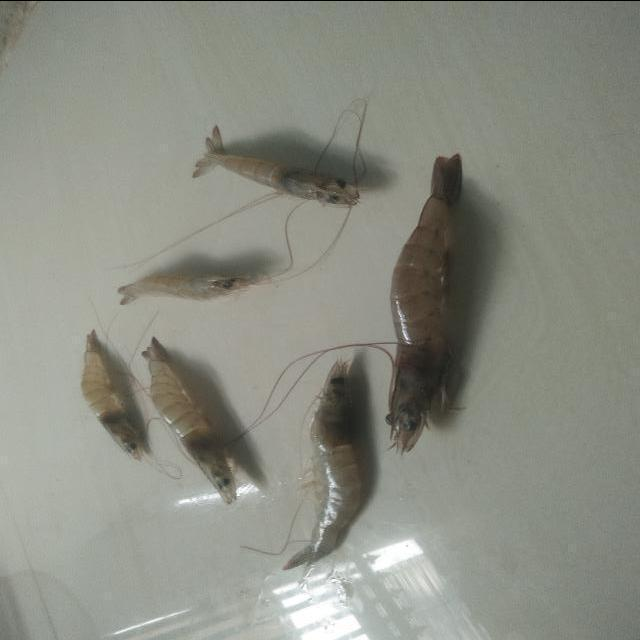shrimp: (386, 152, 462, 452), (283, 360, 362, 570), (141, 339, 235, 503), (192, 125, 359, 206), (80, 330, 141, 460), (117, 274, 256, 304)
